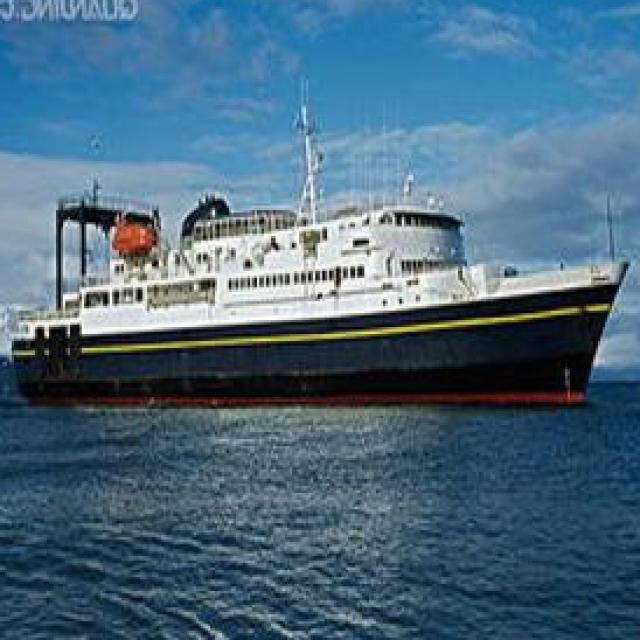passenger ship: (11, 173, 630, 412)
